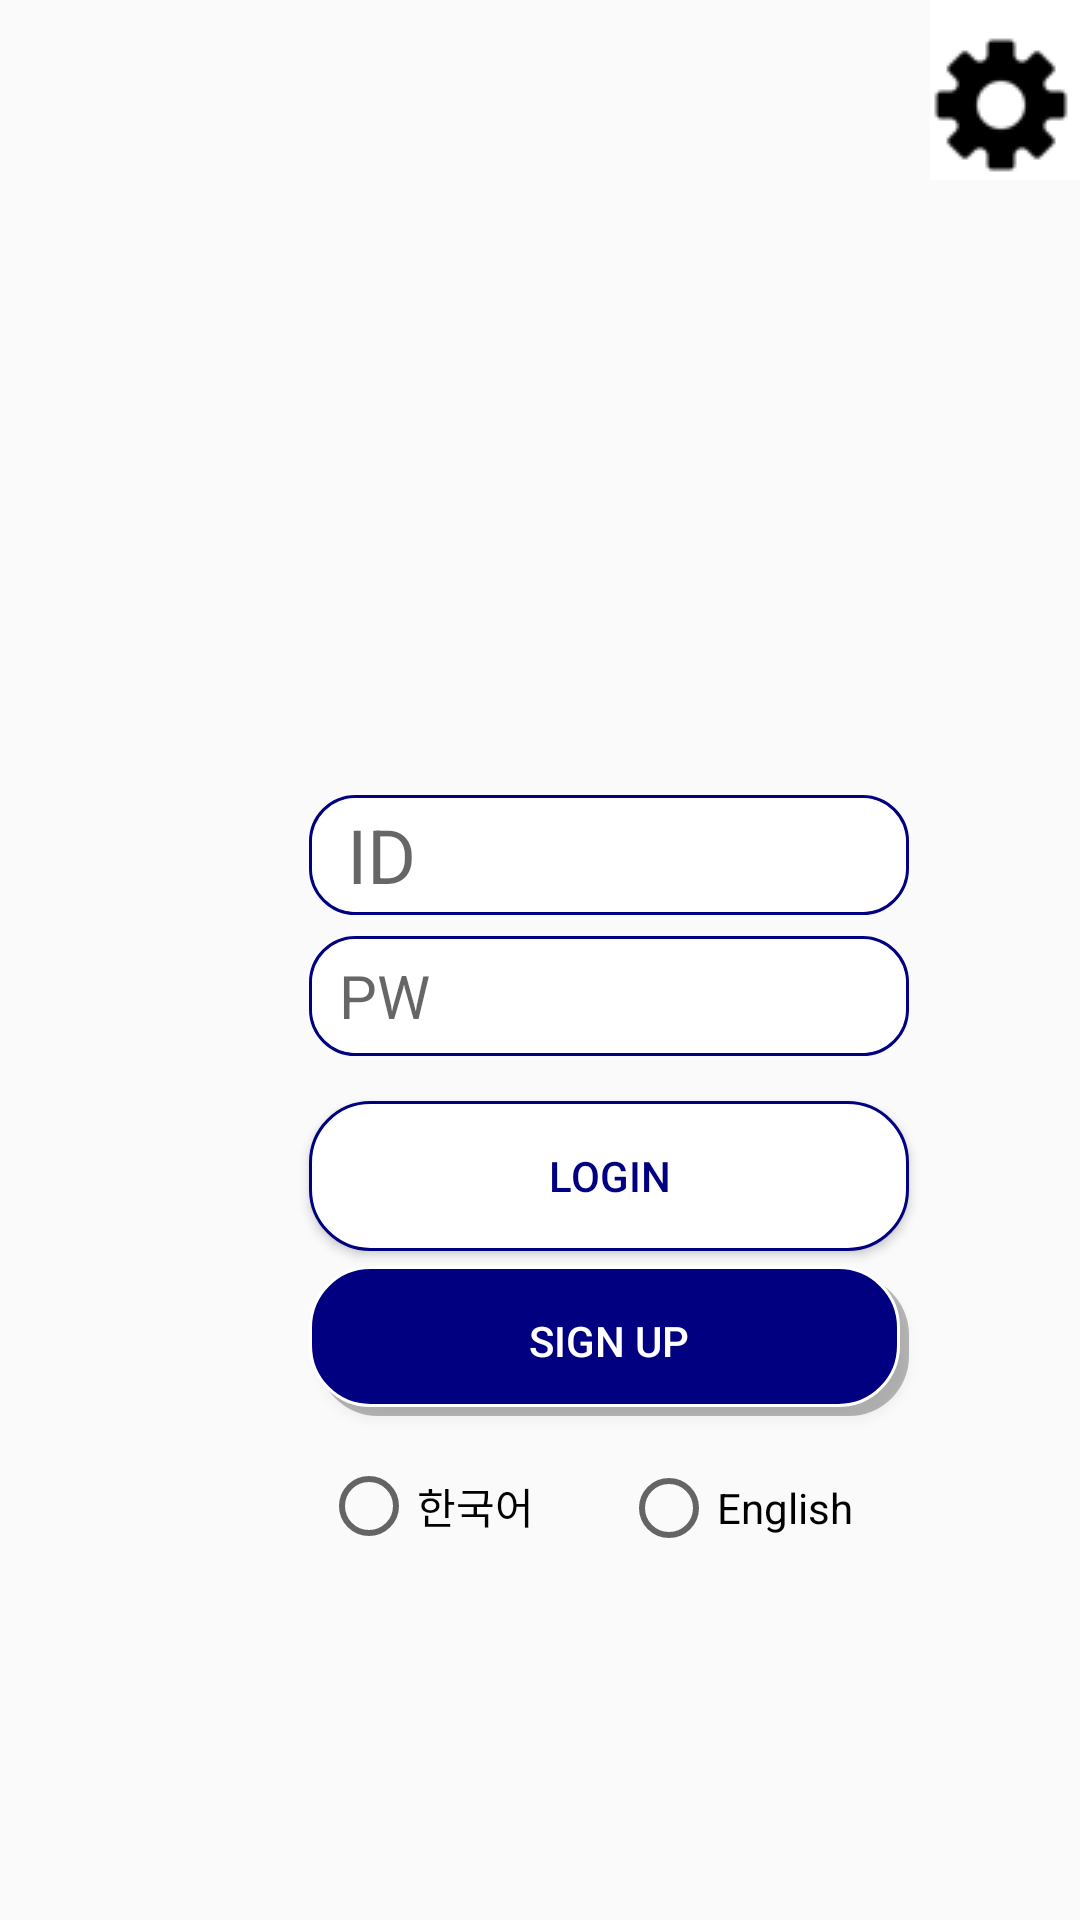

Named icons in this screenshot (1080 x 1920) and their centers, (x=x, y=y):
setting: (x=1001, y=105)
